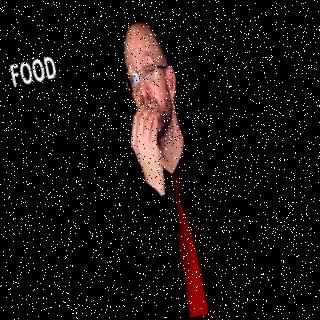Food: (93, 7, 241, 310)
